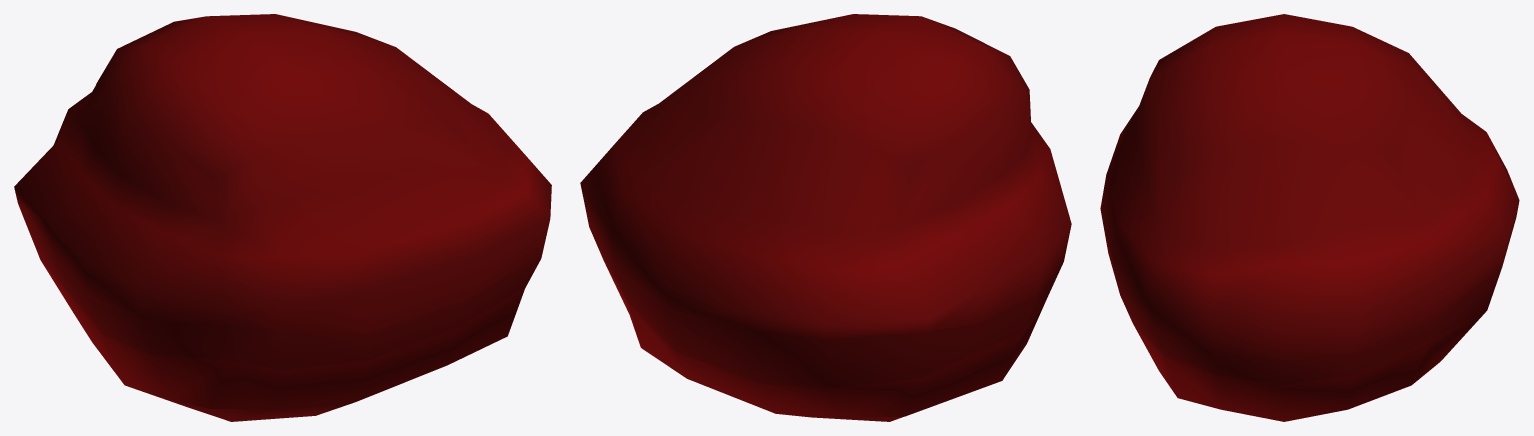
The model's file is geology-pebbles-coloredpebble_v7.fbx.
3 views of the same model, side by side, from view 1: azimuth 30°, elevation 25°; view 2: azimuth 150°, elevation 25°; view 3: azimuth 270°, elevation 25° (orthographic). The views are drawn at different scales.
Visible parts, largest first — view 1: ColoredPebble_v7; view 2: ColoredPebble_v7; view 3: ColoredPebble_v7.
Part boxes in pixels (x1,y1,x2,y2): ColoredPebble_v7: (14,14,551,421); ColoredPebble_v7: (580,14,1071,421); ColoredPebble_v7: (1100,14,1519,421).
Bounding box in the file's own units: 11.58 × 9.35 × 10.67.
